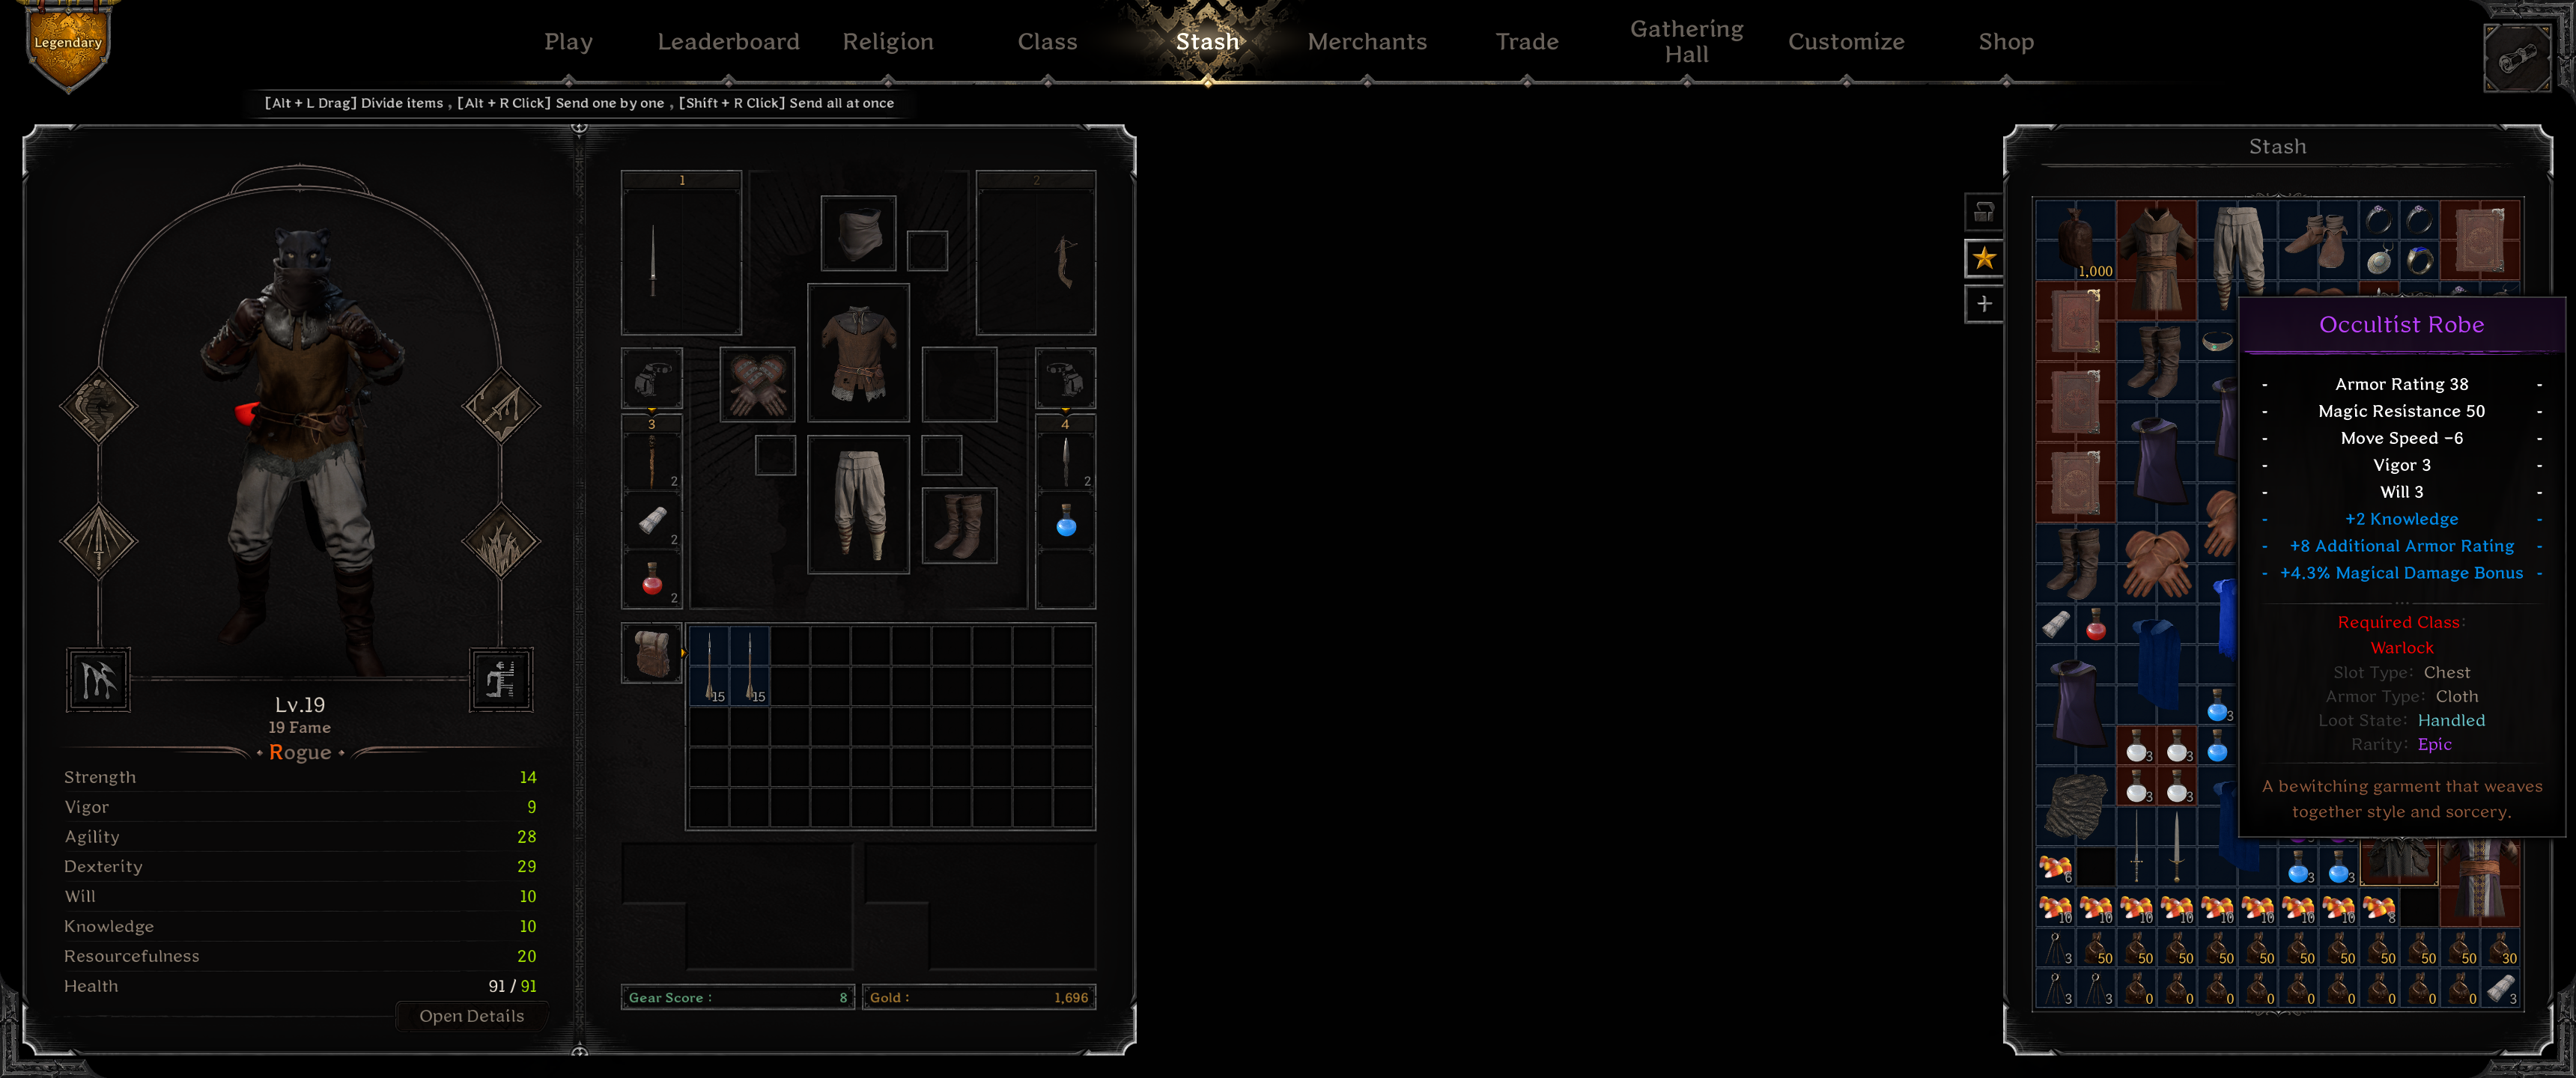Tooltip: (2236, 294, 2568, 840)
